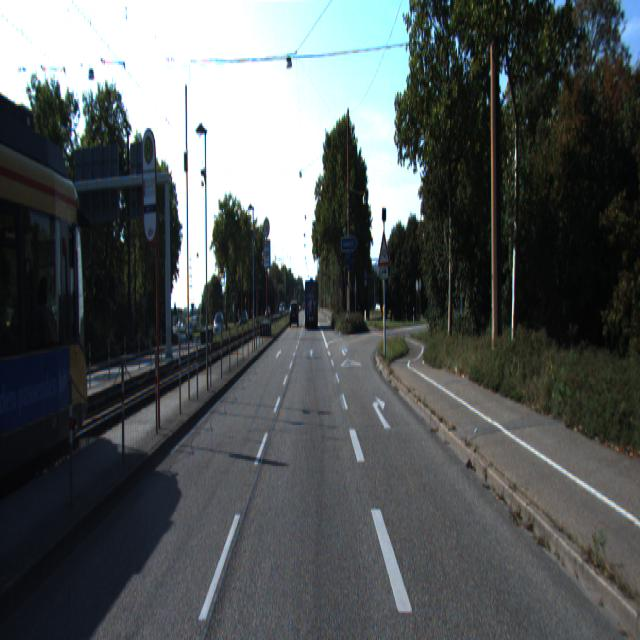Car: (304, 278, 319, 329), (290, 302, 298, 328)
